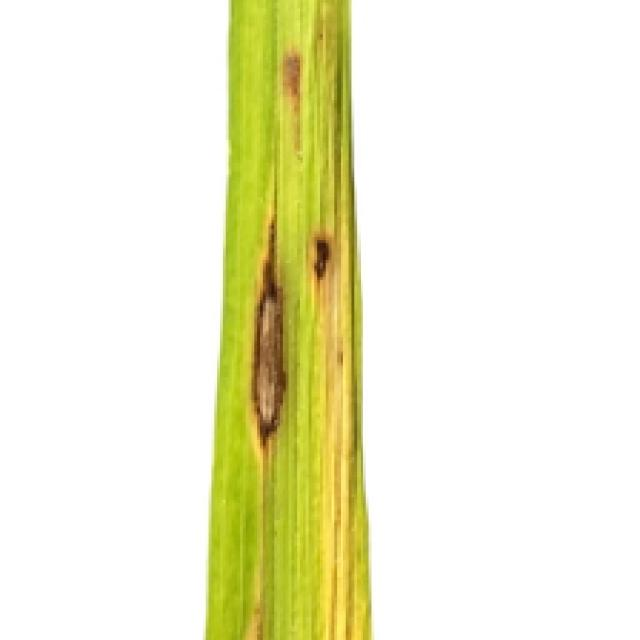Rice___Rice_Blast: (204, 0, 374, 637)
